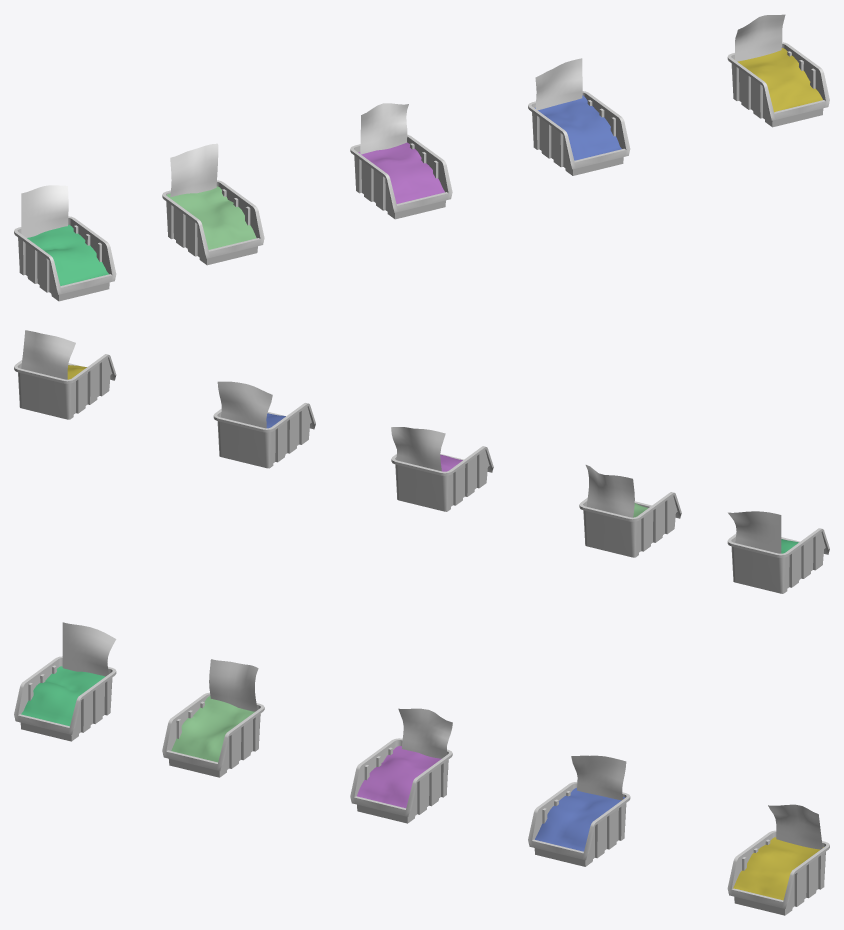
The model's file is stackable_boxes.fbx.
The picture shows the model from 3 angles, top to bottom: view 1: azimuth 30°, elevation 25°; view 2: azimuth 150°, elevation 25°; view 3: azimuth 330°, elevation 25°; orthographic projection.
Parts seen in each view (by area): view 1: contents_pat_base, stackable_plastic_box_01, stackable_plastic_box_03, stackable_plastic_box_02, stackable_plastic_box_04, stackable_plastic_box_05; view 2: contents_pat_base, stackable_plastic_box_02, stackable_plastic_box_01, stackable_plastic_box_04, stackable_plastic_box_05, stackable_plastic_box_03; view 3: contents_pat_base, stackable_plastic_box_01, stackable_plastic_box_03, stackable_plastic_box_02, stackable_plastic_box_04, stackable_plastic_box_05.
Boxes of the visible parts, x1,y1,x2,y2 form: contents_pat_base: (21, 14, 822, 285); stackable_plastic_box_01: (14, 216, 116, 301); stackable_plastic_box_03: (350, 134, 452, 219); stackable_plastic_box_02: (162, 180, 264, 265); stackable_plastic_box_04: (528, 91, 630, 175); stackable_plastic_box_05: (727, 42, 829, 127); contents_pat_base: (21, 330, 798, 553); stackable_plastic_box_02: (579, 492, 681, 557); stackable_plastic_box_01: (727, 528, 829, 593); stackable_plastic_box_04: (213, 403, 315, 468); stackable_plastic_box_05: (14, 354, 116, 419); stackable_plastic_box_03: (391, 446, 493, 511); contents_pat_base: (21, 622, 823, 900); stackable_plastic_box_01: (14, 656, 116, 741); stackable_plastic_box_03: (350, 738, 452, 823); stackable_plastic_box_02: (162, 692, 264, 777); stackable_plastic_box_04: (528, 782, 630, 866); stackable_plastic_box_05: (727, 830, 829, 915).
Size of the model in its own units: 246 by 24.66 by 25.35.
